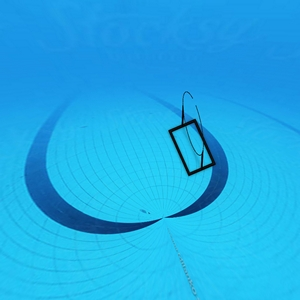circle: (168, 87, 220, 184)
